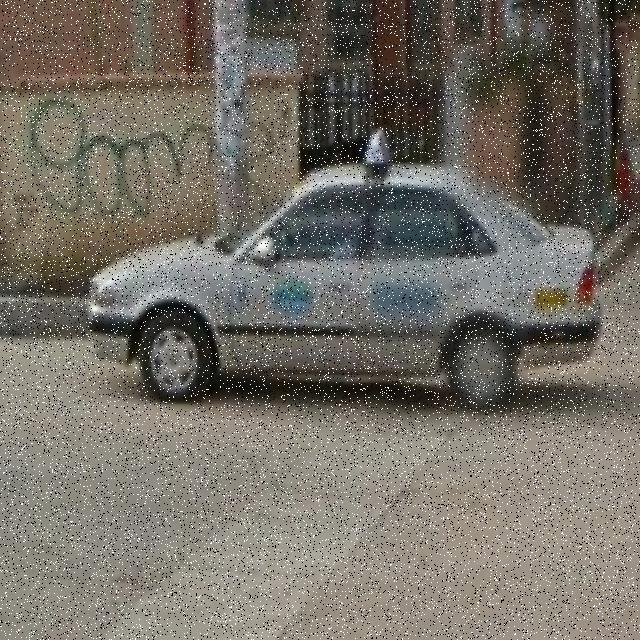cars: (86, 162, 598, 404)
